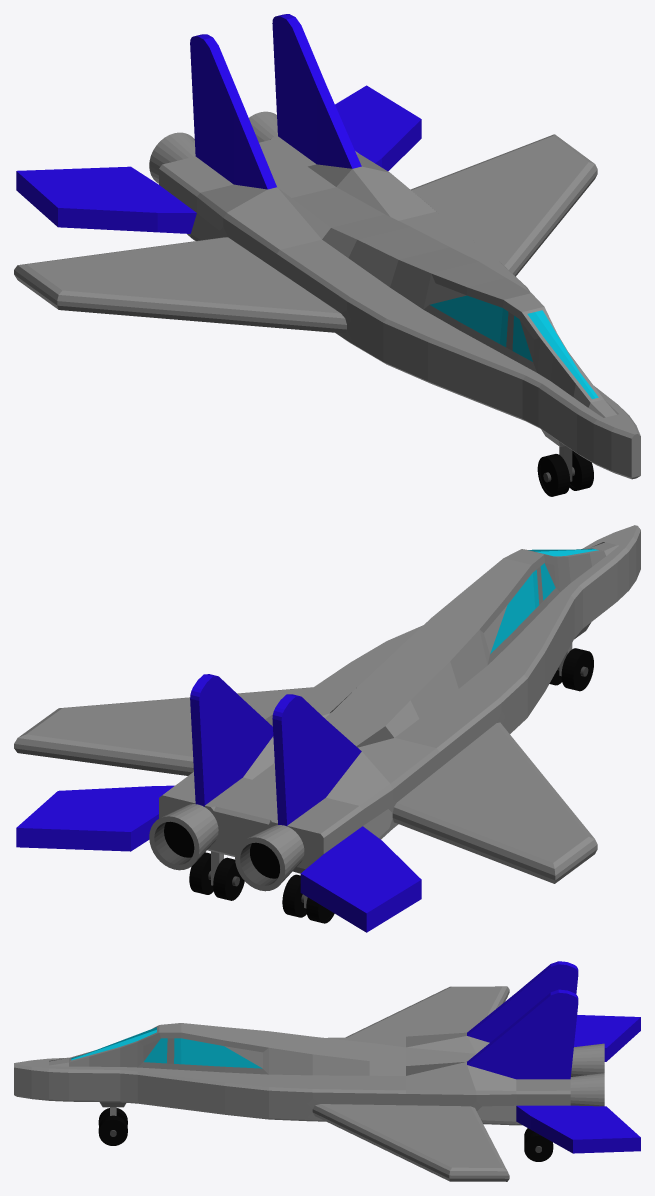
Rendered from Jet.fbx.
The picture shows the model from 3 angles, top to bottom: view 1: azimuth 30°, elevation 25°; view 2: azimuth 150°, elevation 25°; view 3: azimuth 270°, elevation 25°; orthographic projection. The views are drawn at different scales.
Visible parts, largest first — view 1: Jet; view 2: Jet; view 3: Jet.
Boxes of the visible parts, x1,y1,x2,y2 form: Jet: [14, 14, 640, 496]; Jet: [14, 525, 640, 932]; Jet: [14, 961, 640, 1181].
Size of what is drawn, in the model's own units: 1163 by 475 by 1656.
